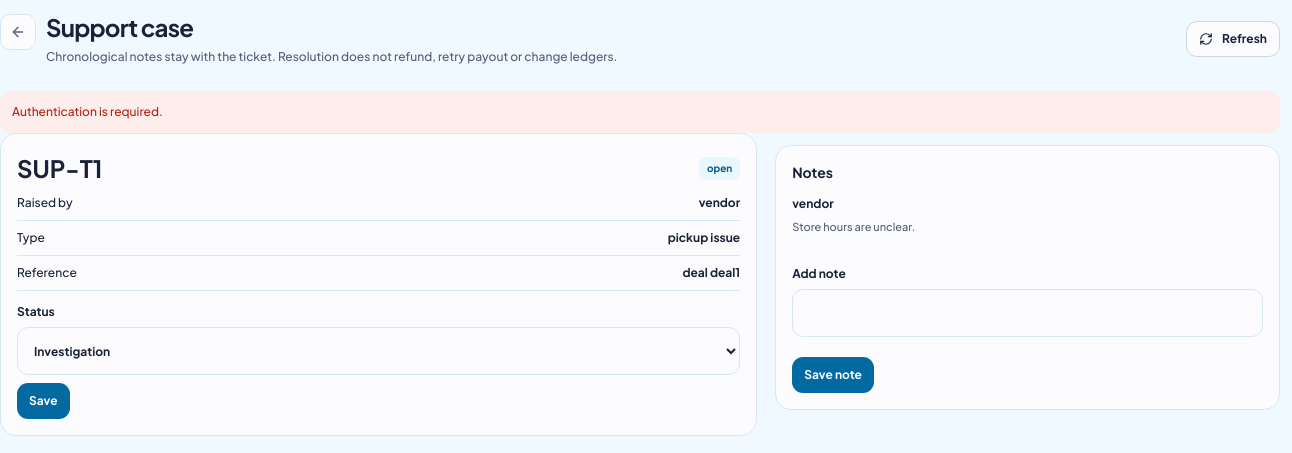
A18 assigns and resolves without a financial shortcut
Expected: the heading "Support case" is shown, x1=46 y1=12 x2=193 y2=42
Expected: the text "Store hours are unclear." is shown, x1=792 y1=220 x2=915 y2=233
Select "Resolved" in the dropdown named "Ticket status" at (379,351), box x1=17 y1=327 x2=740 y2=375
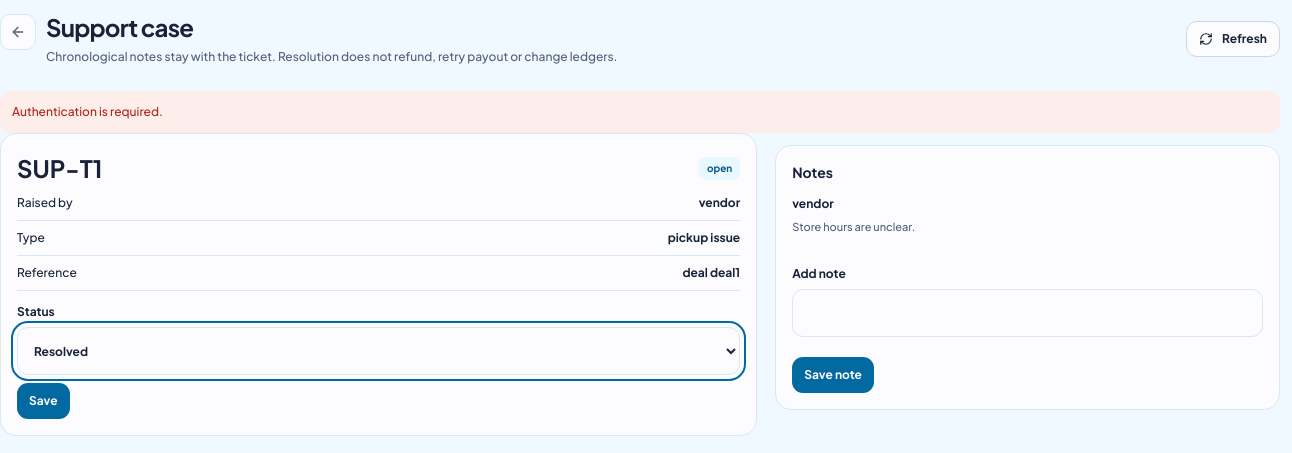
Click the button "Save" at (43,401), box x1=17 y1=383 x2=70 y2=419
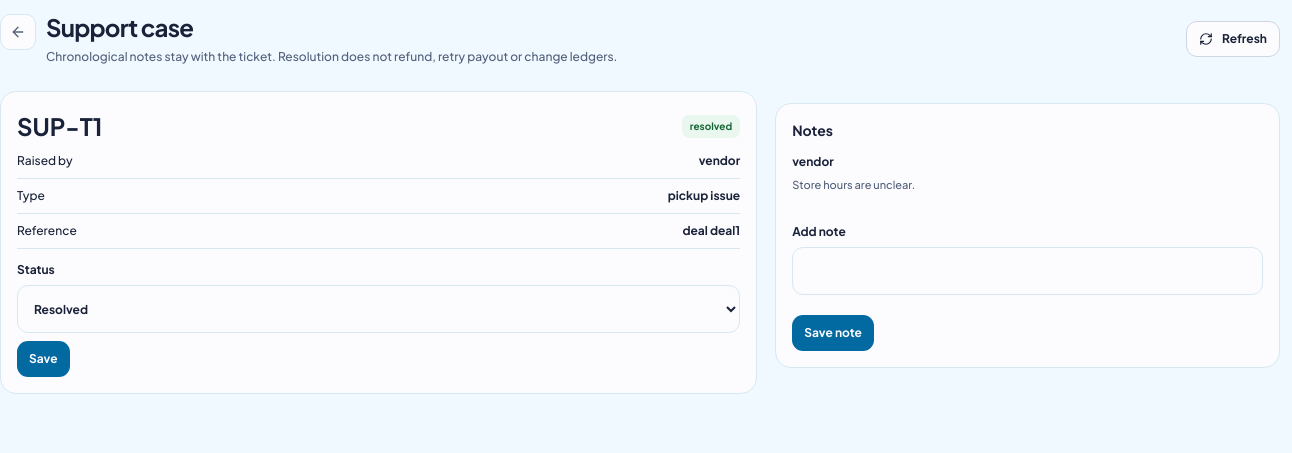
Now the text "resolved" is shown, box x1=682 y1=115 x2=740 y2=138
